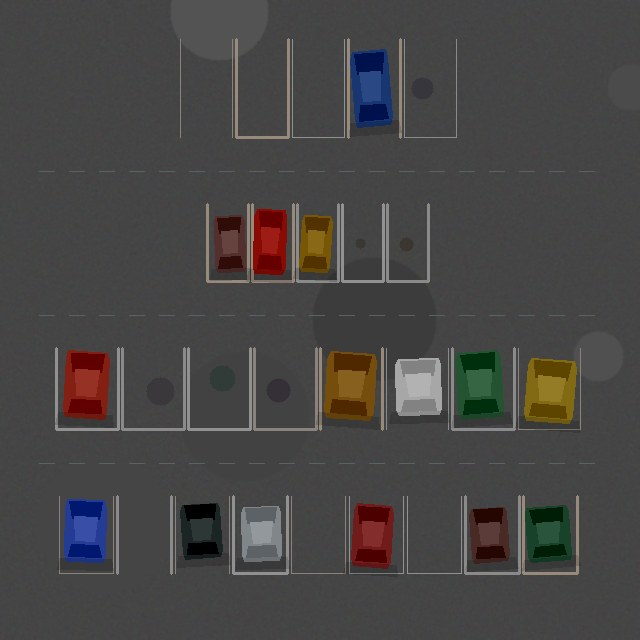space-empty: (180, 39, 232, 137), (236, 39, 288, 137), (292, 39, 344, 137), (404, 39, 456, 137), (122, 348, 184, 429), (188, 348, 250, 429), (254, 348, 316, 429), (117, 496, 171, 573), (291, 496, 345, 573), (407, 496, 461, 573), (342, 204, 383, 281), (387, 204, 428, 281)
space-occupied: (348, 39, 400, 137), (56, 348, 118, 429), (320, 348, 382, 429), (386, 348, 448, 429), (452, 348, 514, 429), (518, 348, 580, 429), (59, 496, 113, 573), (175, 496, 229, 573), (233, 496, 287, 573), (349, 496, 403, 573), (465, 496, 519, 573), (523, 496, 577, 573), (207, 204, 248, 281), (252, 204, 293, 281), (297, 204, 338, 281)
